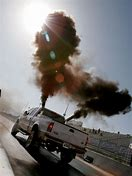smoke: (31, 10, 79, 101), (68, 66, 132, 120)
